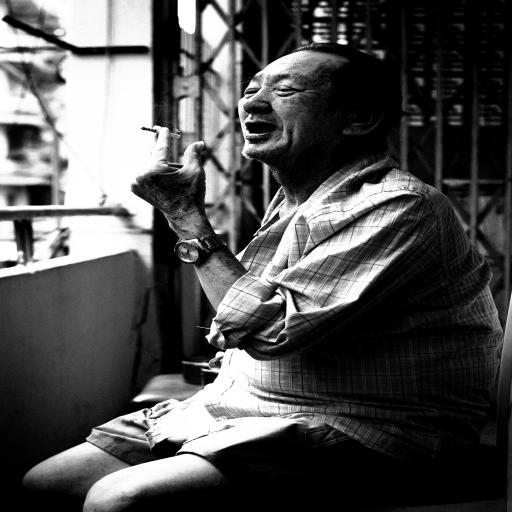terdeteksi pegang rokok: (118, 115, 216, 206)
